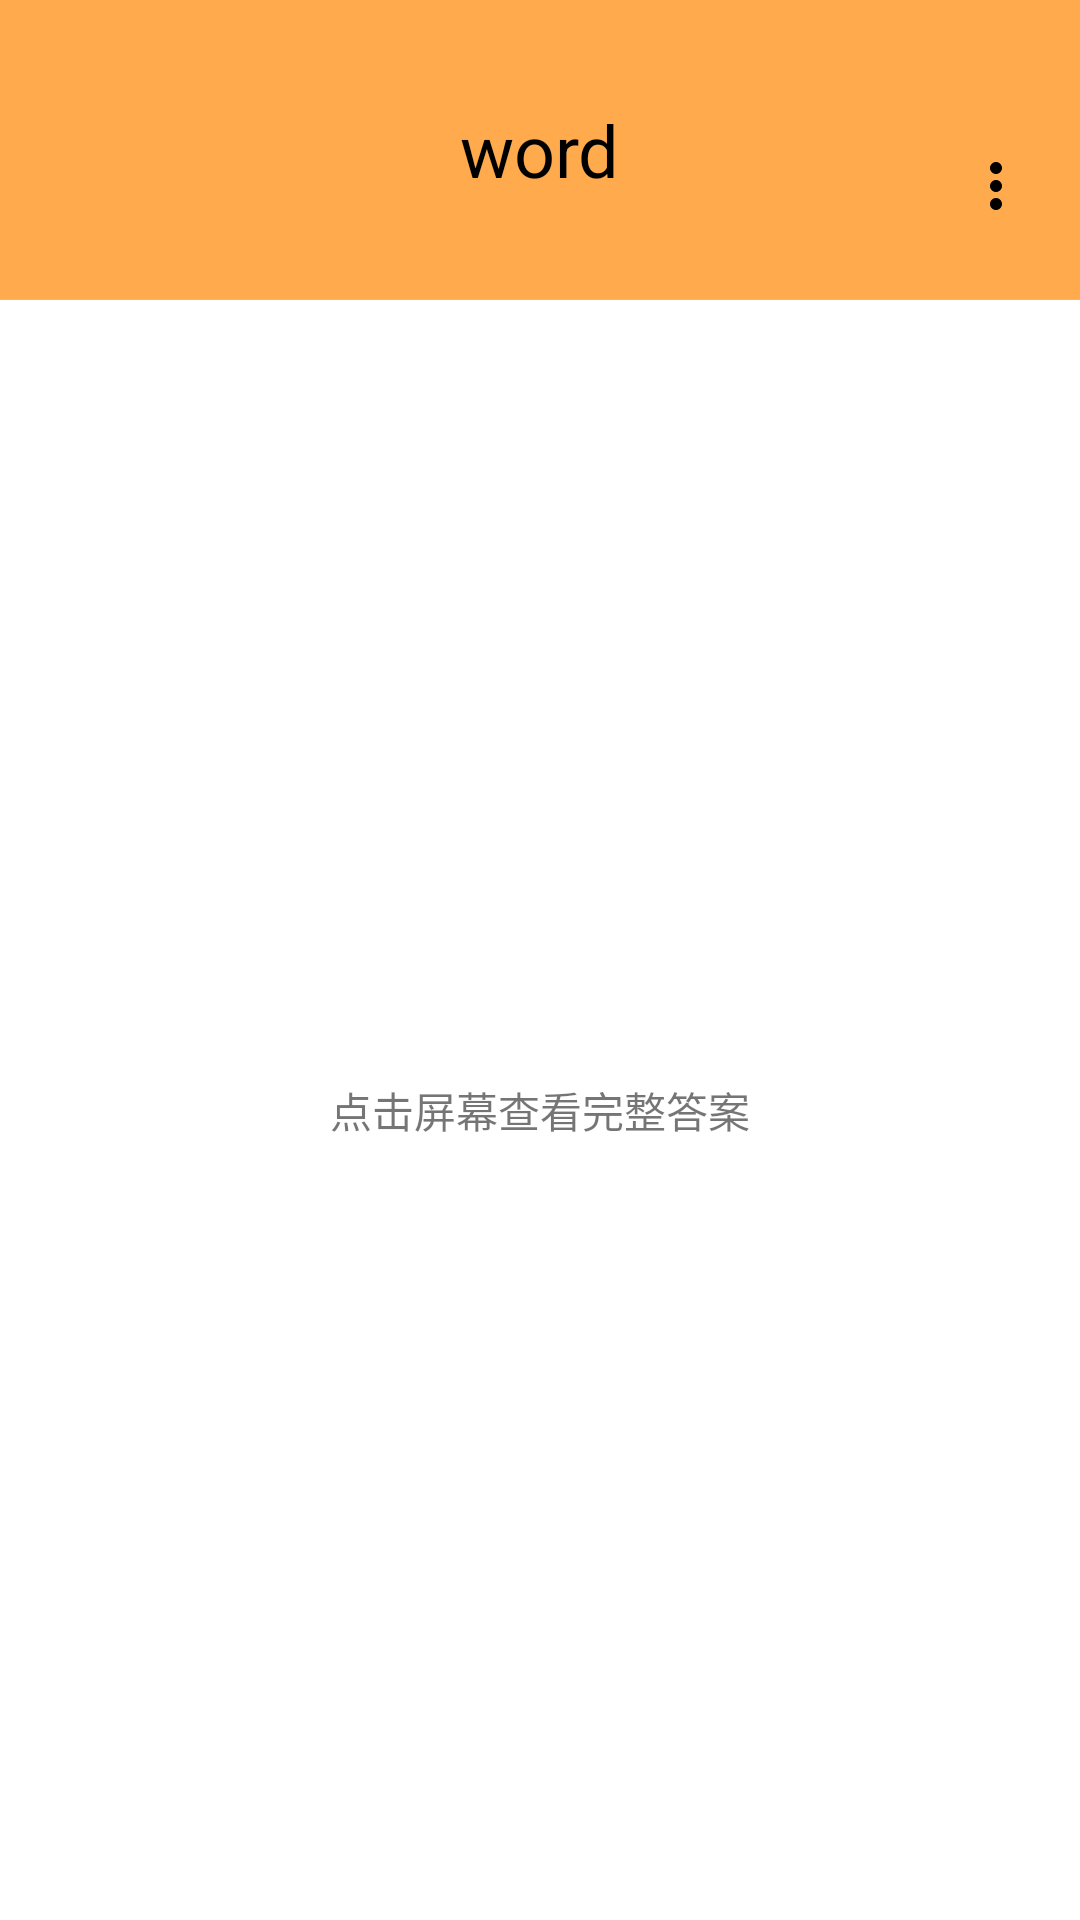

Screen size 1080px×1920px. Icon name, then its center in pixels as (x,y):
more: (996,186)
